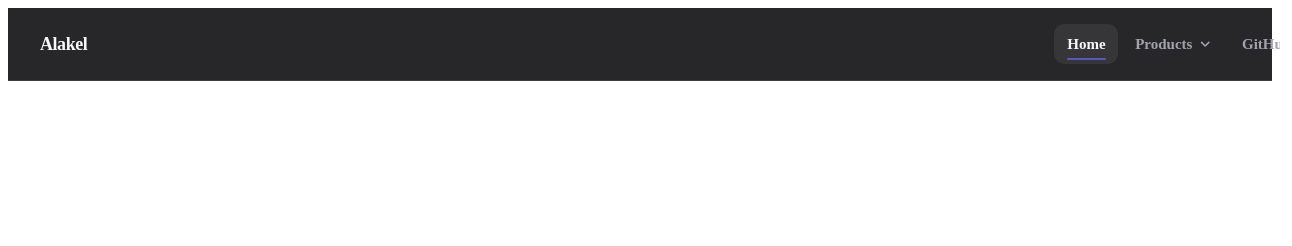
Navbar › opens a desktop dropdown
The width and height of the screenshot is (1292, 246).
Click the button "Products" at x=1174, y=44, box [1122, 24, 1225, 64]
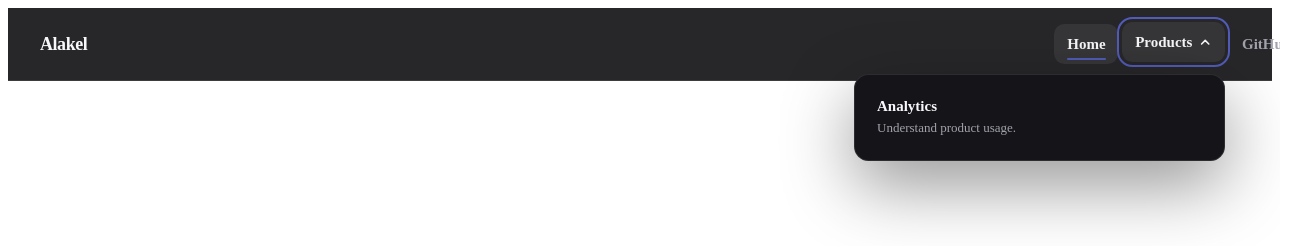
Now the link "Analytics Understand product usage." is shown, box [877, 98, 1016, 135]
